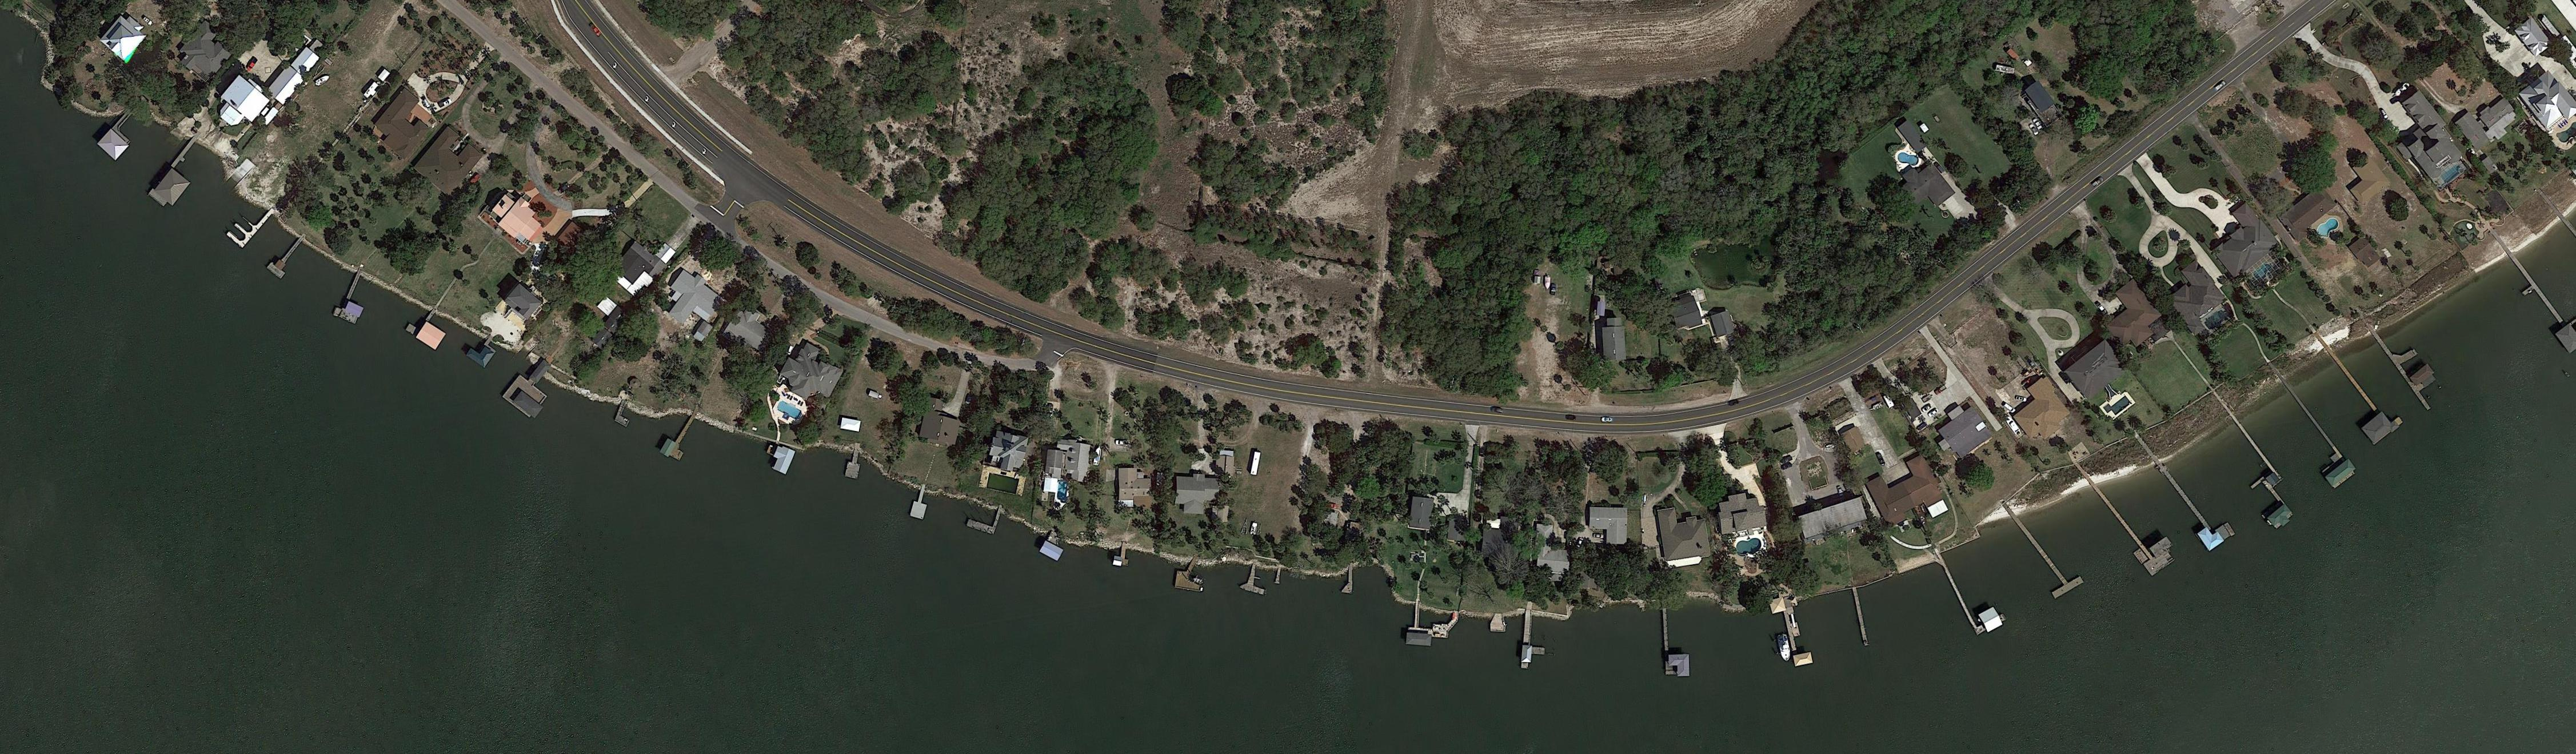harbor: (2193, 402, 2303, 529), (2132, 432, 2234, 554), (2083, 465, 2180, 577), (2262, 376, 2358, 490), (2312, 338, 2404, 445), (2495, 243, 2576, 365), (1993, 501, 2085, 605), (2367, 314, 2450, 412), (1939, 542, 2008, 637), (148, 136, 215, 210), (501, 356, 563, 421), (97, 108, 151, 159), (225, 199, 276, 248), (1405, 603, 1461, 647), (334, 268, 376, 325), (406, 304, 455, 350), (662, 409, 703, 463), (1783, 606, 1814, 667), (1663, 608, 1689, 677), (266, 233, 306, 279), (1521, 611, 1548, 670), (968, 499, 1004, 536), (1173, 554, 1207, 591), (761, 440, 797, 475), (1852, 586, 1871, 647), (467, 335, 501, 368), (1040, 531, 1071, 562), (1240, 563, 1270, 595), (910, 485, 932, 519), (844, 447, 864, 480), (1112, 542, 1134, 568), (614, 399, 634, 427), (1341, 563, 1355, 593), (1490, 613, 1507, 632), (1273, 567, 1283, 585)
ship: (1776, 634, 1794, 662), (2004, 417, 2022, 439), (1091, 445, 1102, 467), (314, 74, 332, 87), (1250, 522, 1258, 536), (1193, 577, 1204, 585)
